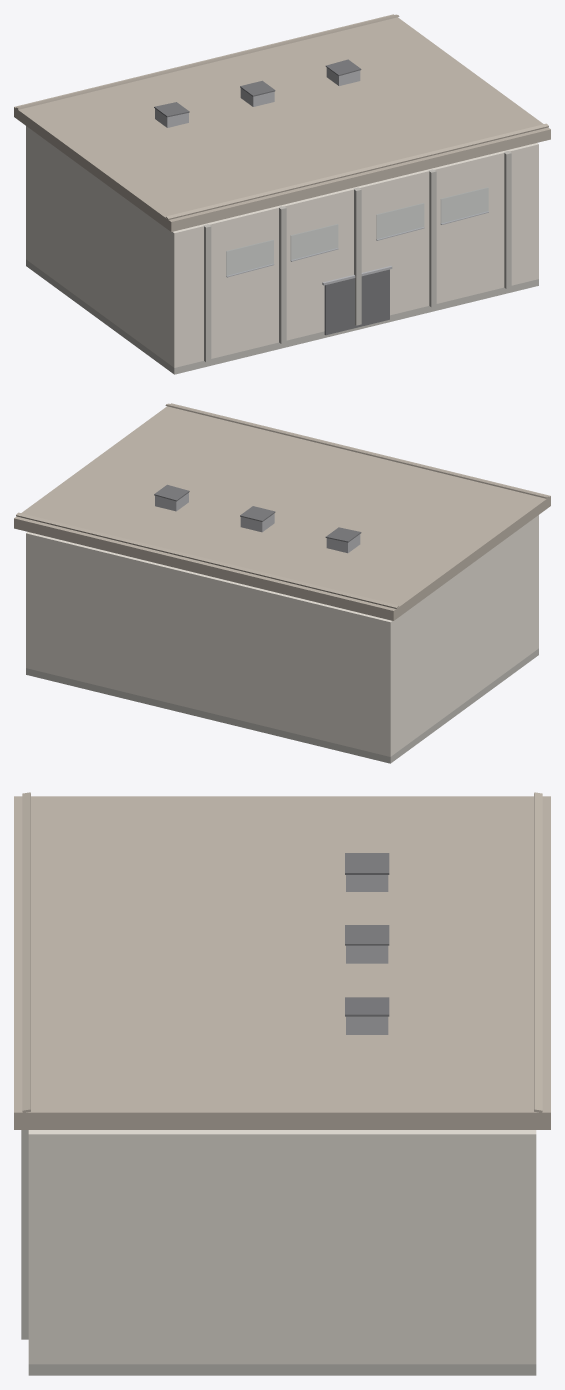
File: warehouse.glb
3 views of the same model, one above another, from view 1: azimuth 30°, elevation 25°; view 2: azimuth 150°, elevation 25°; view 3: azimuth 270°, elevation 25° (orthographic). The views are drawn at different scales.
Visible parts, largest first — view 1: render, stone, concrete, glass, darkMetal, metal; view 2: render, stone, concrete, metal, darkMetal; view 3: stone, render, concrete, darkMetal, metal.
Part boxes in pixels (x1,y1,x2,y2): render: (26,126,538,367); stone: (14,14,550,231); concrete: (26,151,538,374); glass: (226,187,488,275); darkMetal: (154,59,389,335); metal: (155,68,488,285); render: (26,515,538,756); stone: (14,403,550,620); concrete: (26,648,538,763); metal: (155,493,360,553); darkMetal: (154,484,361,542); stone: (14,792,550,1129); render: (28,1130,536,1364); concrete: (21,1130,536,1375); darkMetal: (345,853,389,1016); metal: (346,875,388,1034).
Size of the model in its own units: 35.5 by 15.13 by 25.4.
